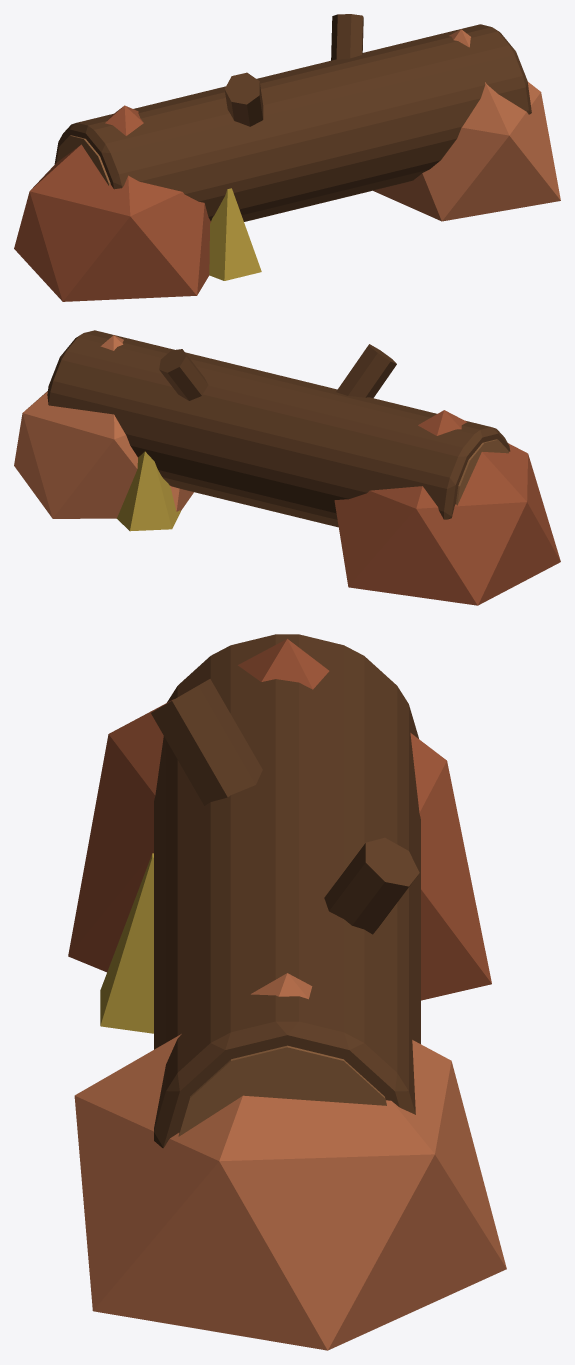
File: Savanna_Obs_BoulderLog.fbx
The picture shows the model from 3 angles, top to bottom: view 1: azimuth 30°, elevation 25°; view 2: azimuth 150°, elevation 25°; view 3: azimuth 270°, elevation 25°; orthographic projection. The views are drawn at different scales.
Parts seen in each view (by area): view 1: Savanna_Obs_BoulderLog; view 2: Savanna_Obs_BoulderLog; view 3: Savanna_Obs_BoulderLog.
Part boxes in pixels (x1,y1,x2,y2): Savanna_Obs_BoulderLog: (14, 14, 560, 301); Savanna_Obs_BoulderLog: (14, 330, 560, 605); Savanna_Obs_BoulderLog: (68, 634, 506, 1350).
Size of the model in its own units: 2.93 by 0.9635 by 1.09.
